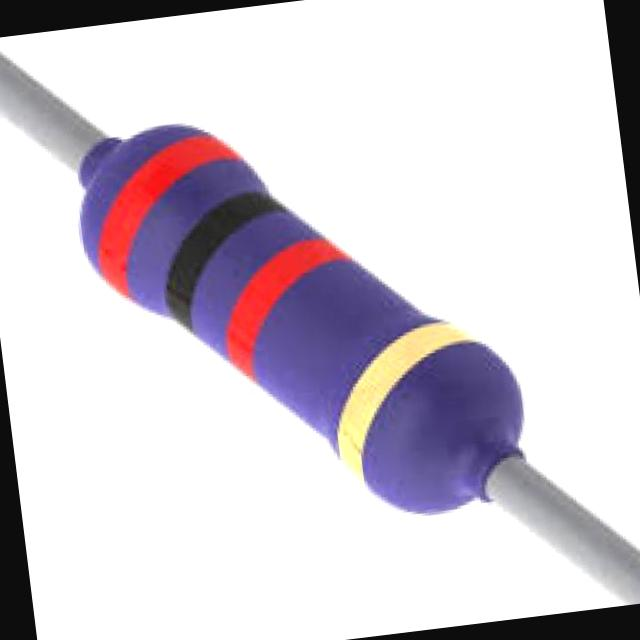Resistor: (78, 125, 521, 513)
black: (166, 187, 286, 331)
gold: (337, 323, 470, 472)
red: (94, 134, 236, 293), (220, 240, 346, 380)
